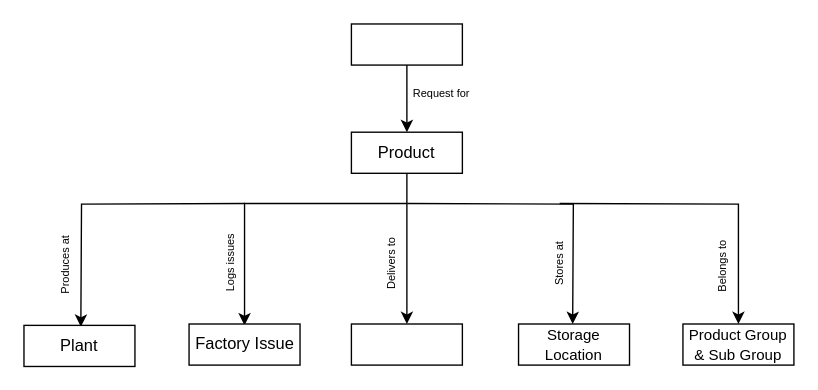
This 818x390 diagram has some shape labels left out. The centre of each missing label's shape, as x and y in pixels:
"Distributor" goes at (406,344).
"Sales Order" goes at (406,44).
